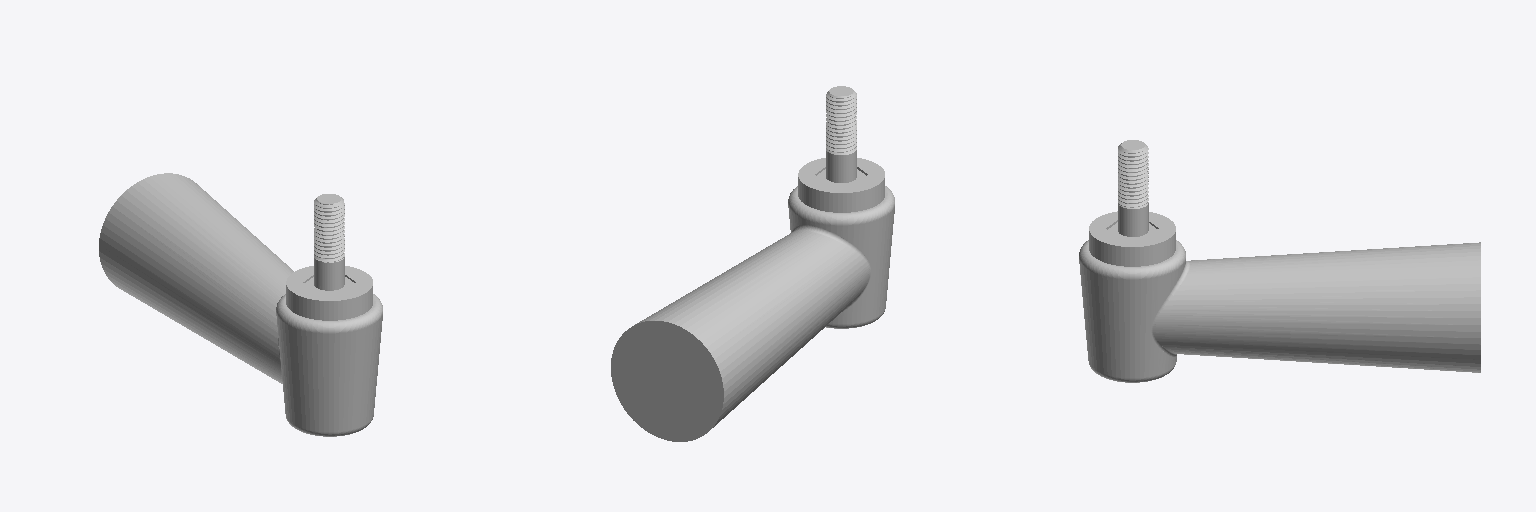
File: Drill2_Full_Bolt.obj
3 views of the same model, side by side, from view 1: azimuth 30°, elevation 25°; view 2: azimuth 150°, elevation 25°; view 3: azimuth 270°, elevation 25° (orthographic).
Visible parts, largest first — view 1: Drill2_Full_Bolt; view 2: Drill2_Full_Bolt; view 3: Drill2_Full_Bolt.
Boxes of the visible parts, x1,y1,x2,y2 form: Drill2_Full_Bolt: [99, 173, 382, 436]; Drill2_Full_Bolt: [611, 86, 894, 441]; Drill2_Full_Bolt: [1079, 140, 1480, 382].
Bounding box in the file's own units: 0.0761 × 0.1427 × 0.2345.